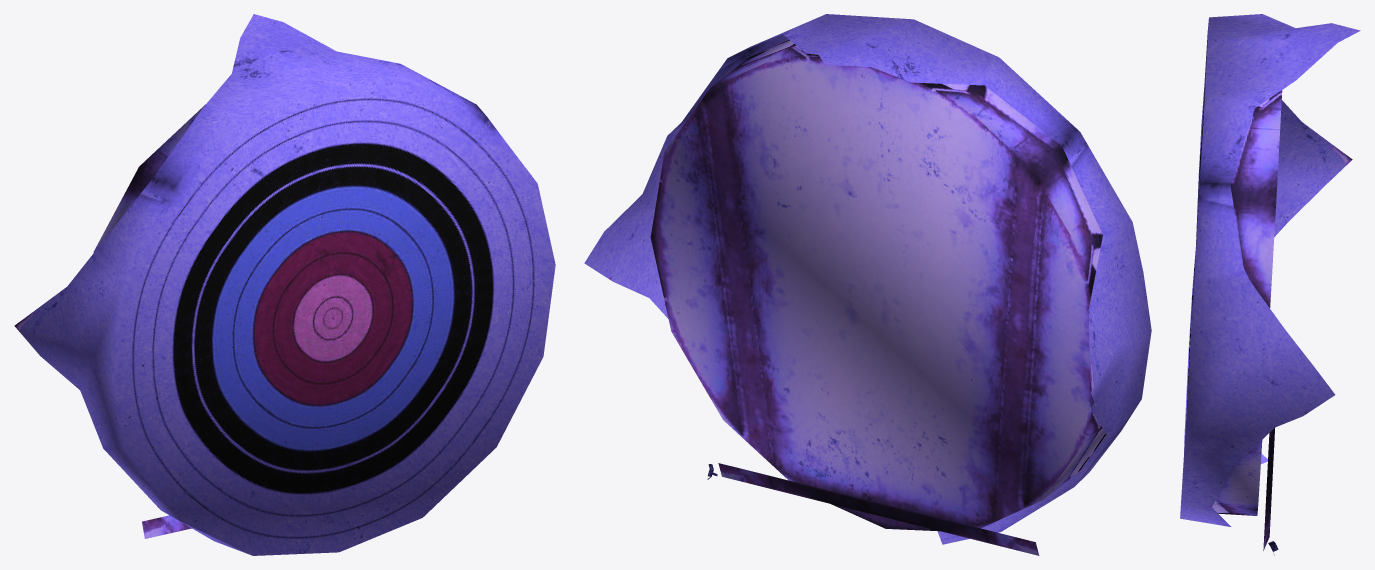
Rendered from Target.fbx.
The picture shows the model from 3 angles, left to right: view 1: azimuth 30°, elevation 25°; view 2: azimuth 150°, elevation 25°; view 3: azimuth 270°, elevation 25°; orthographic projection. The views are drawn at different scales.
Parts seen in each view (by area): view 1: defaultMaterial; view 2: defaultMaterial; view 3: defaultMaterial.
Boxes of the visible parts, x1,y1,x2,y2 form: defaultMaterial: (14, 14, 555, 555); defaultMaterial: (584, 14, 1151, 555); defaultMaterial: (1180, 14, 1360, 555).
Size of the model in its own units: 109 by 102 by 36.04.
